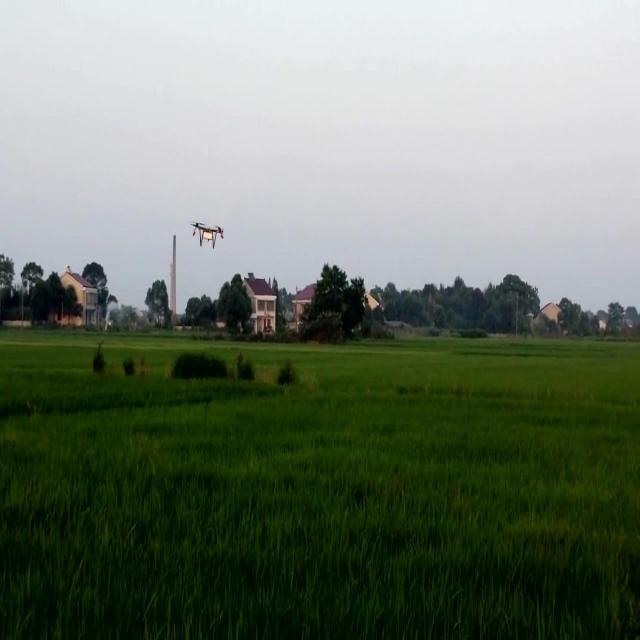drone: (190, 216, 226, 253)
